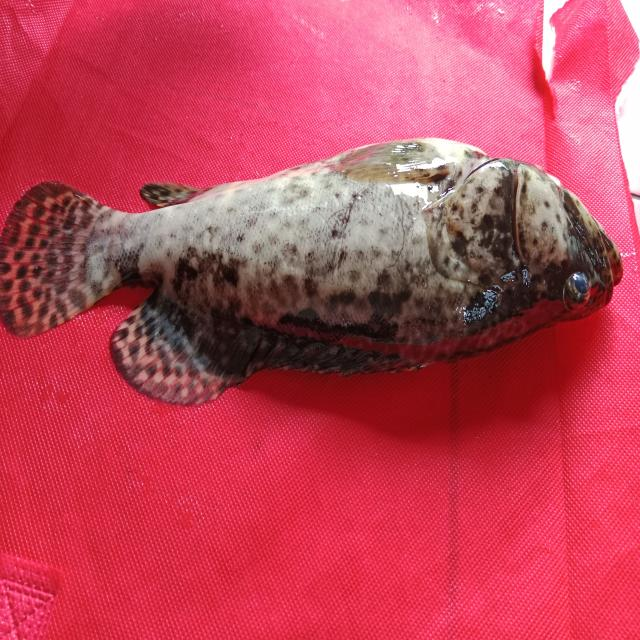ikan: (1, 136, 624, 408)
